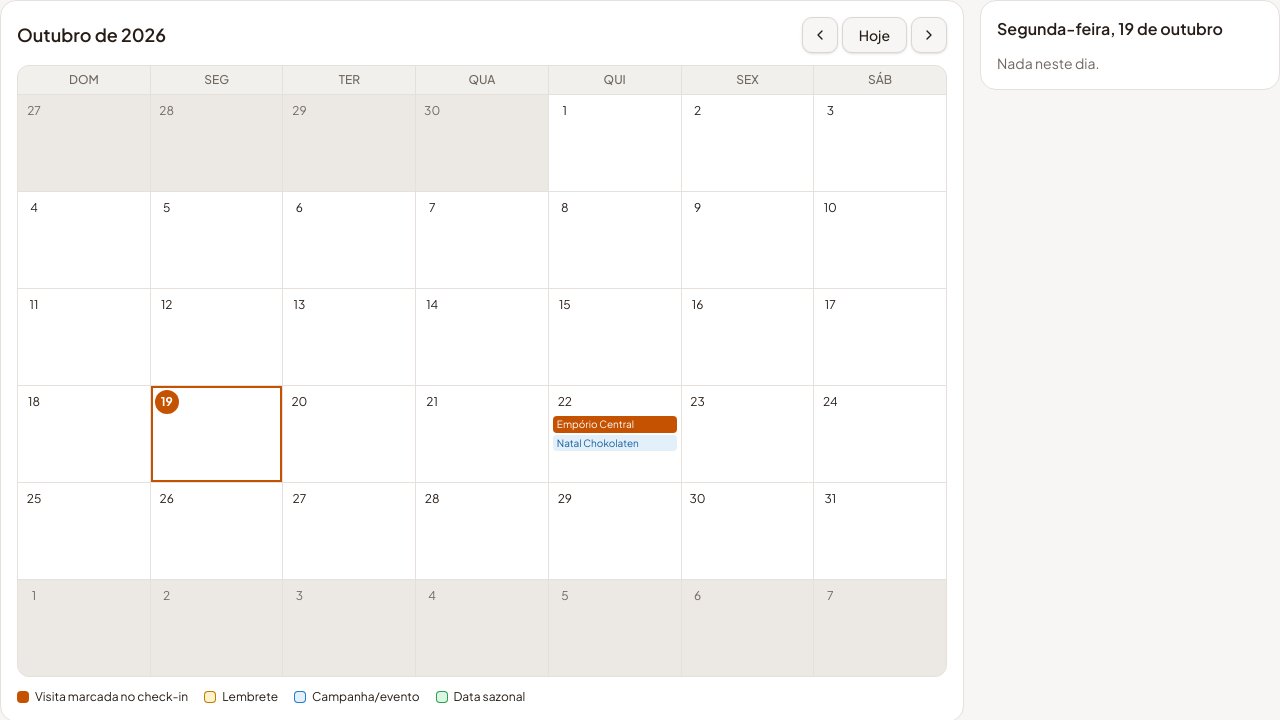
Test: Calendario › o gestor vê a campanha no dia e de quem é cada visita
The width and height of the screenshot is (1280, 720).
Expected: the list item "Campanha/evento" is shown, [294,689,420,705]
Click the button with aria-label "quinta-feira, 22 de outubro, 2 itens" at coordinates (615, 434), box [549,386,680,482]
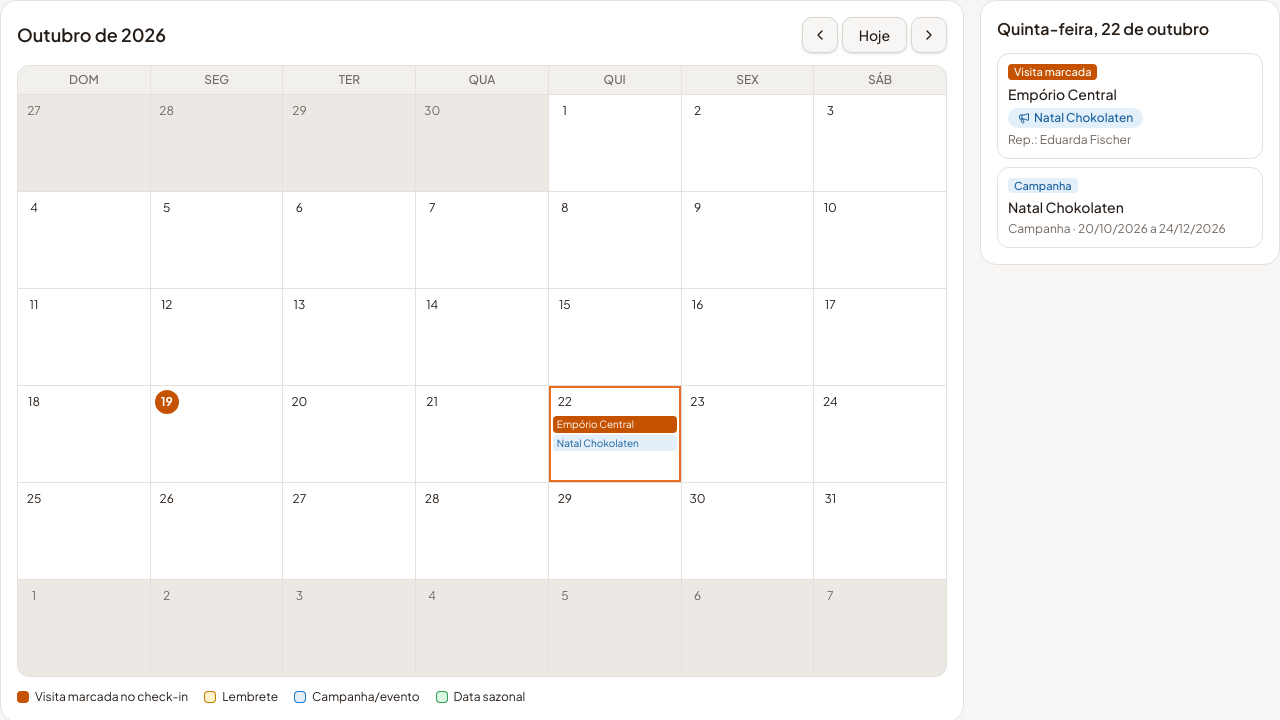
Now the text "Campanha · 20/10/2026 a 24/12/2026" is shown, box [1008,221,1226,237]
Now the text "Rep.: Eduarda Fischer" is shown, box [1008,132,1131,148]
